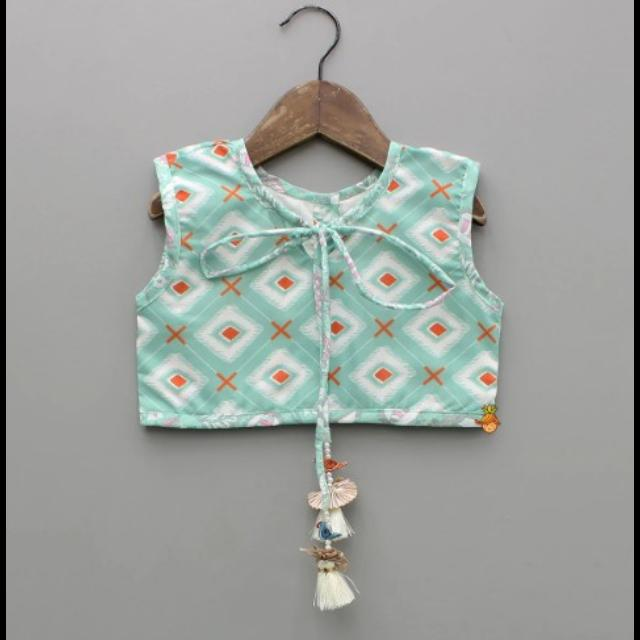top: (144, 162, 501, 562)
